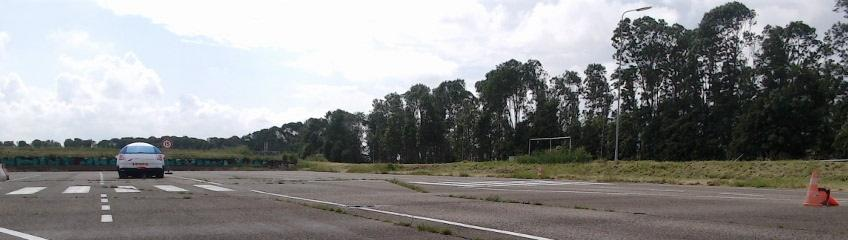Car: (117, 142, 165, 178)
Speed-limit-15km-h-: (161, 138, 173, 149)
